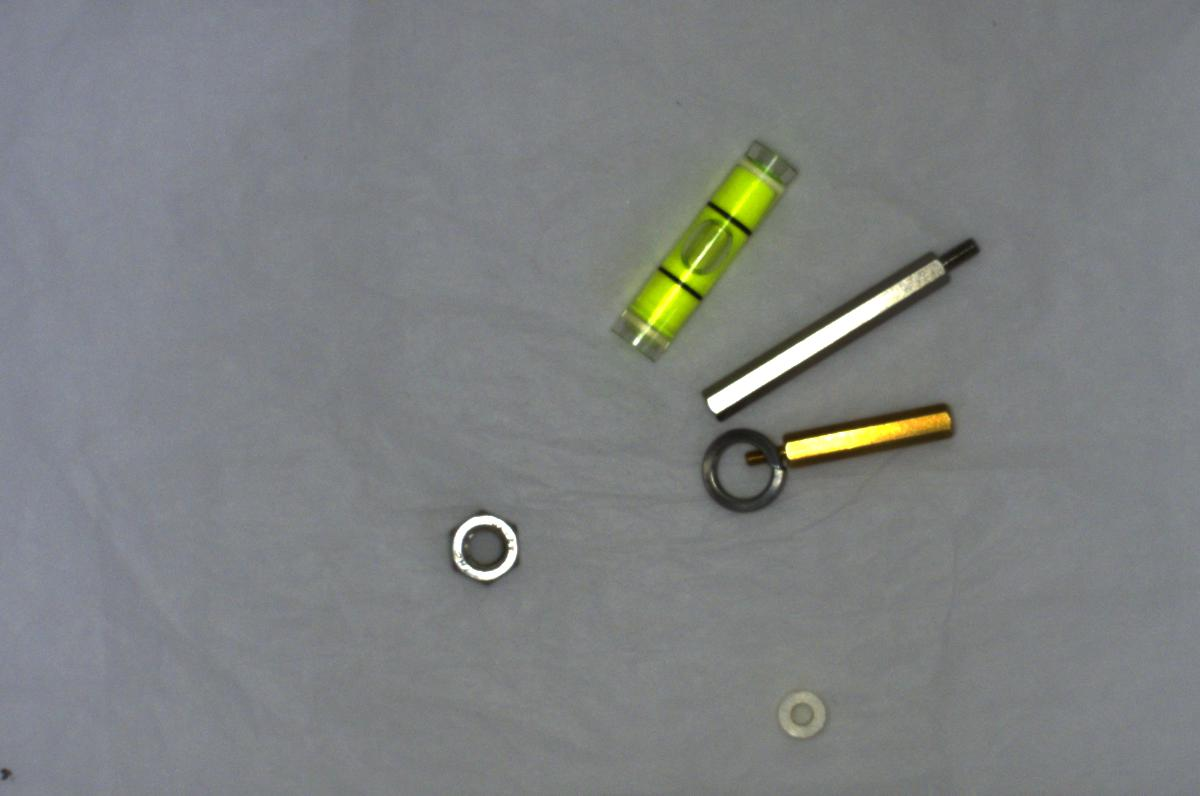Hexagon nut: (439, 506, 526, 592)
Hexagon pillar: (738, 409, 979, 471)
Hexagonal steel column: (698, 226, 988, 418)
Horizontal bubble: (605, 136, 785, 356)
Plastic cushion pillar: (776, 680, 830, 745)
Spring washer: (693, 421, 794, 526)
